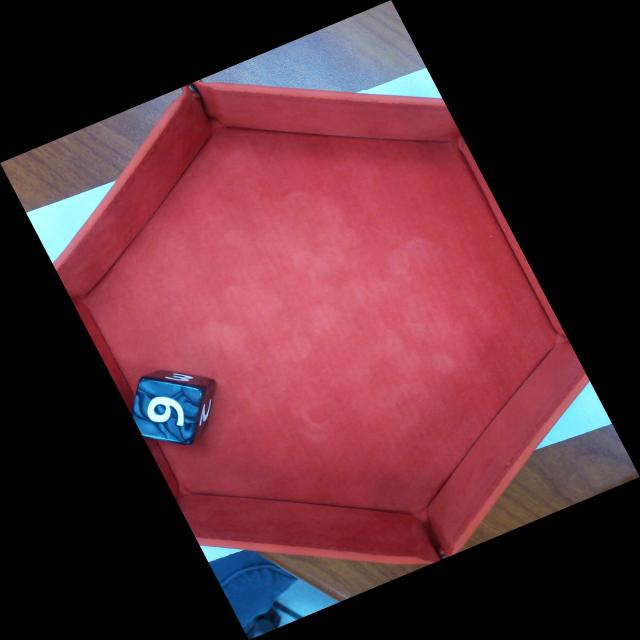dice: (131, 379, 205, 444)
